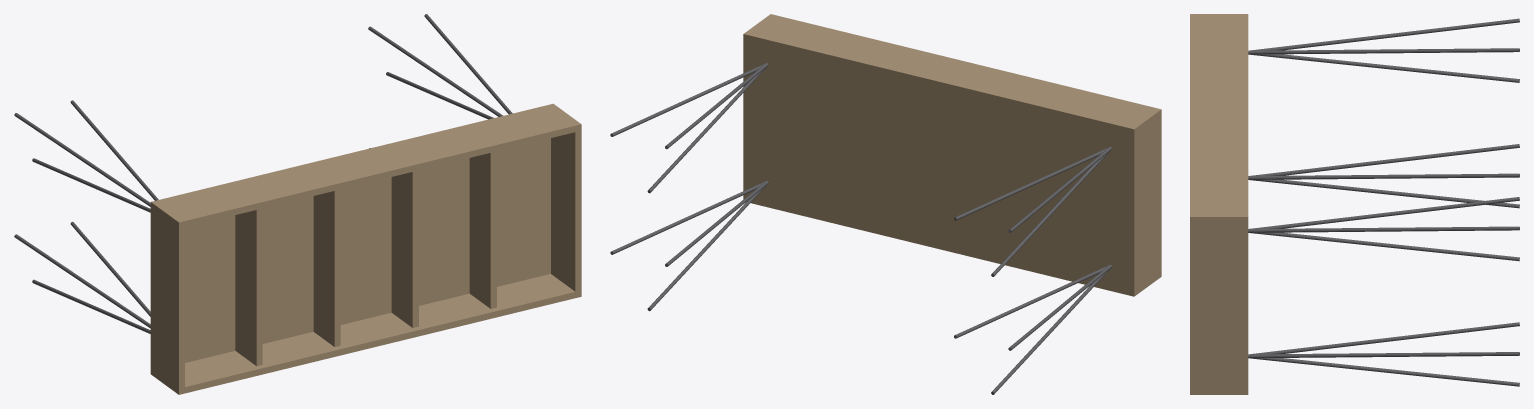
The model's file is vinyl_record_storage.glb.
3 views of the same model, side by side, from view 1: azimuth 30°, elevation 25°; view 2: azimuth 150°, elevation 25°; view 3: azimuth 270°, elevation 25° (orthographic). The views are drawn at different scales.
Parts seen in each view (by area): view 1: bottom, back, front, side_left, side_right, divider_1, divider_2, divider_3, divider_4, leg_back_left, leg_front_left, leg_back_right; view 2: bottom, back, side_left, leg_front_right, leg_back_left, leg_back_right, leg_front_left, side_right; view 3: side_right, back, leg_back_right, leg_back_left, leg_front_right, leg_front_left, bottom.
Boxes of the visible parts, x1,y1,x2,y2 form: bottom: (157,105,550,362); back: (161,107,575,227); front: (185,274,575,393); side_left: (150,200,184,394); side_right: (547,103,581,297); divider_1: (235,208,262,366); divider_2: (313,189,340,346); divider_3: (391,170,418,327); divider_4: (469,151,496,308); leg_back_left: (14,100,158,212); leg_front_left: (14,221,150,333); leg_back_right: (368,14,512,119); bottom: (749,33,1131,294); back: (753,15,1154,125); side_left: (1128,108,1161,296); leg_front_right: (610,180,768,311); leg_back_left: (954,146,1111,276); leg_back_right: (610,63,768,193); leg_front_left: (954,264,1112,394); side_right: (743,14,776,199); side_right: (1190,213,1248,394); back: (1190,17,1240,213); leg_back_right: (1248,197,1519,261); leg_back_left: (1248,18,1519,82); leg_front_right: (1248,322,1519,386); leg_front_left: (1248,144,1519,208); bottom: (1241,17,1248,213).
Size of the model in its own units: 50.87 by 21.28 by 34.03.
